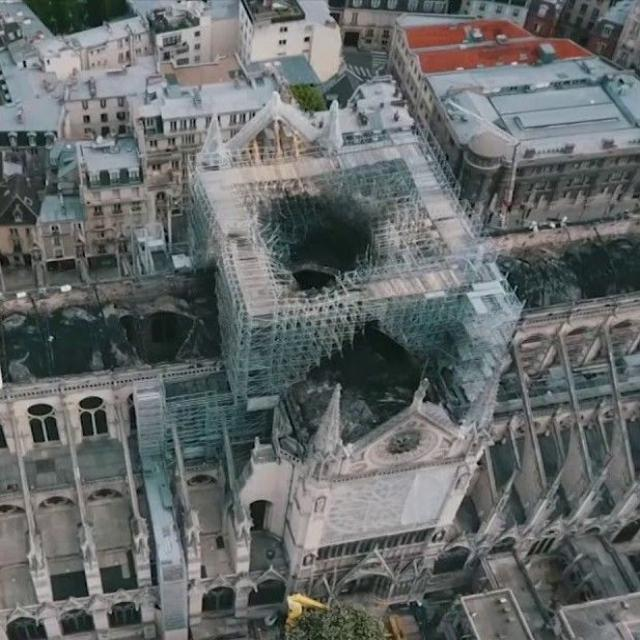collapsed_building: (0, 150, 639, 590)
